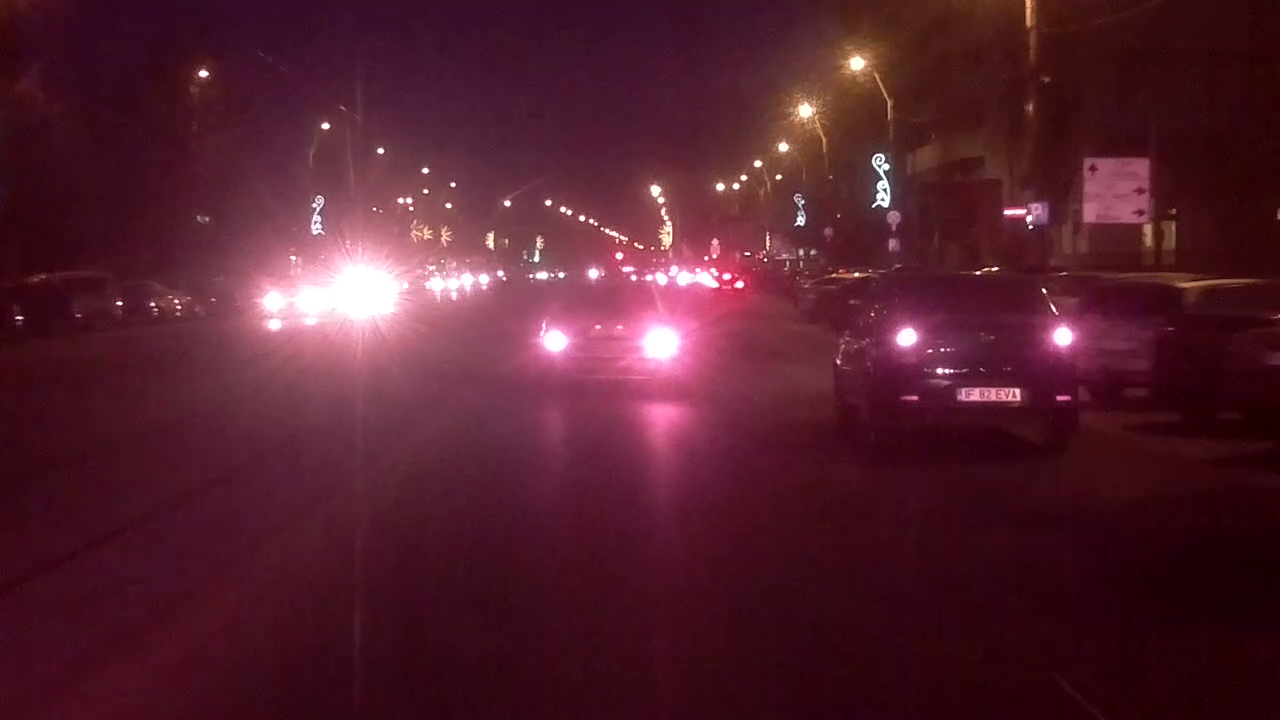license-plate: (953, 385, 1023, 404)
